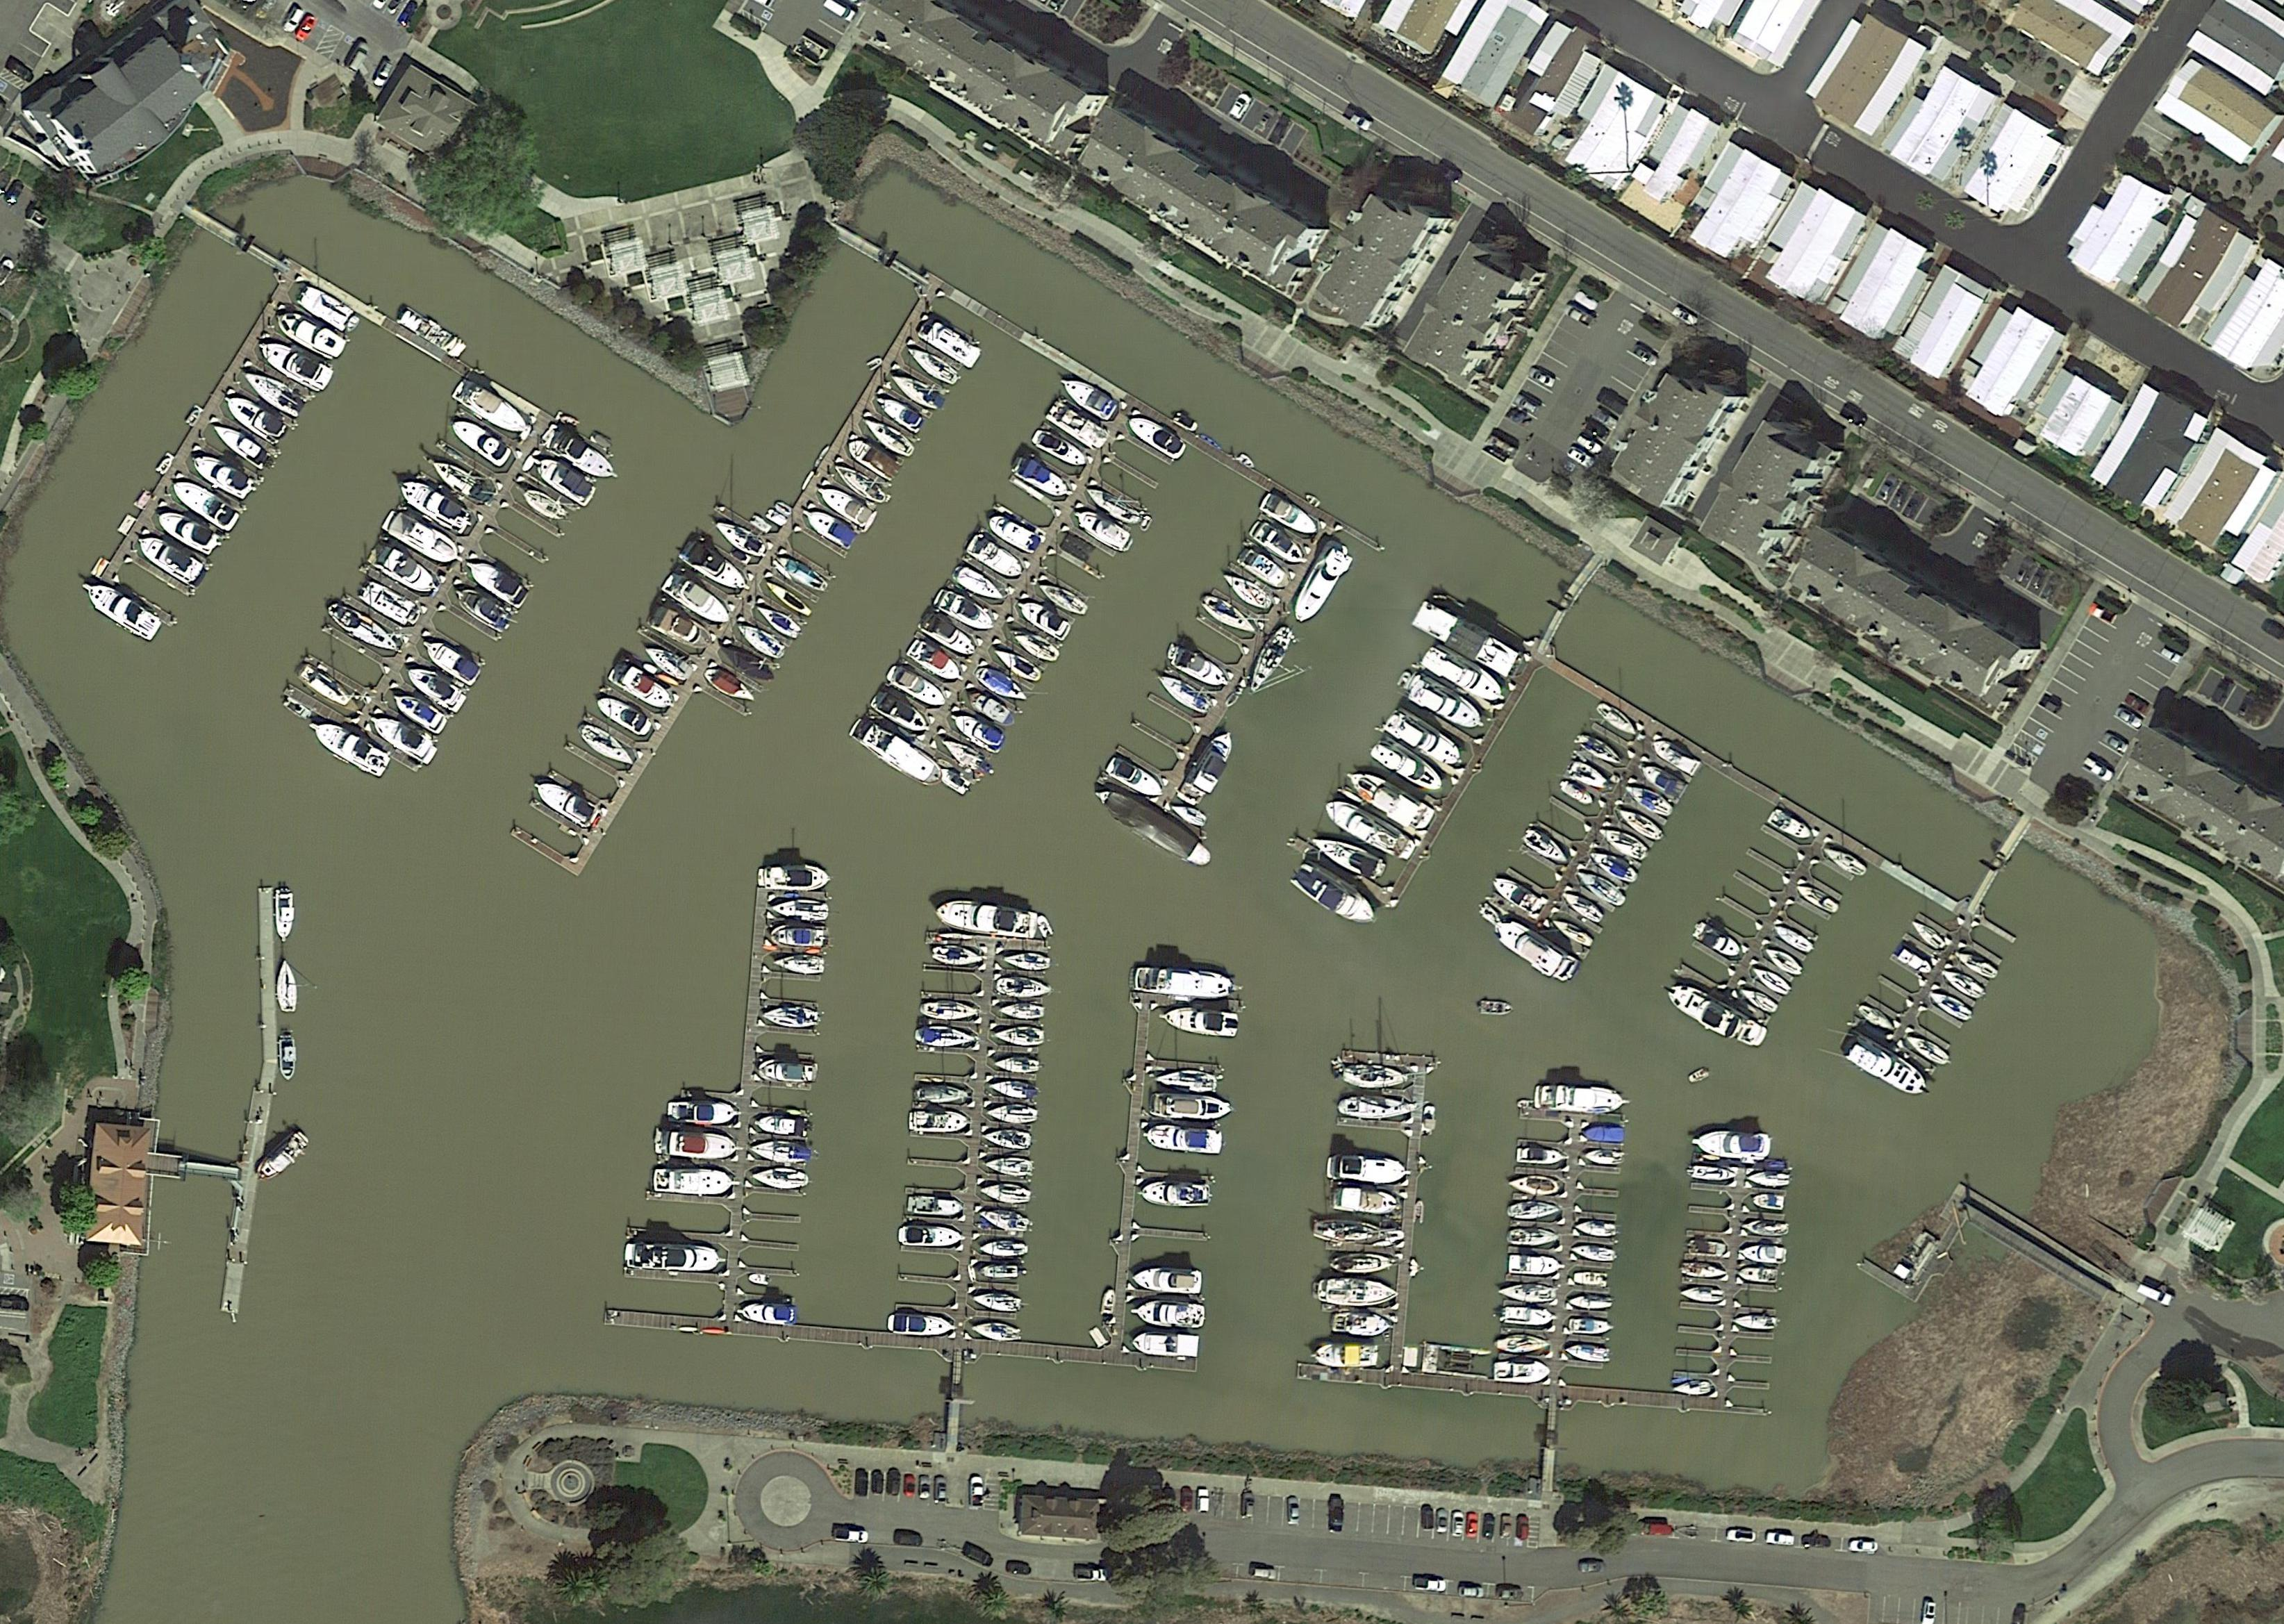harbor: (508, 501, 833, 921), (866, 374, 1188, 782), (283, 383, 606, 775), (1098, 490, 1367, 842), (98, 272, 362, 627), (627, 872, 829, 1323), (1288, 608, 1539, 910), (891, 930, 1052, 1343), (777, 288, 993, 573), (1488, 705, 1704, 961), (1109, 993, 1246, 1359), (1674, 801, 1866, 1030), (1309, 1049, 1439, 1369), (1495, 1107, 1625, 1383), (1671, 1153, 1789, 1399), (1848, 900, 2010, 1076), (221, 1060, 278, 1313), (258, 889, 279, 1063)
ship: (1089, 782, 1214, 872), (1411, 601, 1520, 680), (847, 712, 947, 794), (1288, 858, 1383, 937), (1841, 1030, 1936, 1107), (1321, 791, 1418, 866), (1342, 759, 1435, 837), (1486, 910, 1578, 988), (76, 573, 165, 645), (1420, 640, 1511, 710), (1288, 536, 1353, 629), (1660, 974, 1746, 1044), (1402, 670, 1488, 740), (306, 714, 392, 782), (1175, 722, 1242, 810), (379, 506, 466, 573), (1367, 731, 1446, 800), (541, 424, 624, 489), (1384, 707, 1467, 772), (450, 376, 532, 439), (933, 895, 1038, 944), (395, 473, 474, 538), (323, 599, 404, 661), (365, 538, 441, 603), (1309, 823, 1386, 886), (272, 304, 348, 367), (659, 568, 734, 631), (257, 336, 336, 395), (169, 473, 242, 534), (680, 538, 754, 599), (293, 661, 369, 721), (367, 708, 441, 768), (1242, 622, 1298, 698), (608, 657, 676, 719), (397, 304, 469, 362), (529, 773, 599, 831), (186, 448, 258, 504), (134, 529, 206, 585), (645, 601, 717, 657), (1128, 967, 1242, 1002), (239, 364, 309, 420), (220, 390, 288, 446), (355, 575, 423, 631), (427, 453, 494, 510), (884, 659, 950, 715), (446, 415, 515, 469), (915, 315, 984, 369), (532, 453, 597, 510), (933, 584, 998, 640), (155, 506, 223, 559), (624, 1239, 726, 1274), (251, 1127, 311, 1186), (575, 719, 638, 775), (965, 531, 1028, 587), (402, 661, 467, 715), (1008, 452, 1075, 504), (905, 636, 968, 691), (1056, 369, 1119, 424), (1196, 591, 1261, 643), (1123, 411, 1188, 464), (1168, 643, 1232, 696), (1258, 490, 1321, 543), (870, 687, 933, 740), (917, 610, 980, 663), (207, 420, 272, 471), (1070, 504, 1135, 555), (713, 638, 778, 689), (813, 478, 875, 531), (466, 557, 529, 608), (1153, 666, 1216, 717), (418, 636, 483, 685), (1316, 1272, 1399, 1311), (1488, 868, 1548, 921), (293, 279, 353, 332), (594, 691, 655, 742), (1247, 518, 1309, 569), (1102, 754, 1165, 803), (452, 582, 511, 633), (1235, 545, 1295, 596), (831, 459, 891, 510), (1082, 482, 1144, 531), (972, 661, 1033, 710), (798, 503, 859, 552), (701, 661, 761, 710), (843, 436, 903, 485), (1149, 1090, 1232, 1125), (654, 1127, 736, 1162), (1534, 1084, 1630, 1114), (1420, 1341, 1493, 1380), (712, 513, 770, 562), (950, 561, 1008, 610), (1031, 425, 1091, 473), (903, 341, 963, 388), (857, 415, 917, 462), (1312, 1216, 1397, 1250), (1016, 594, 1072, 643), (392, 689, 450, 736), (938, 733, 996, 780), (773, 550, 831, 598), (986, 510, 1044, 557), (887, 367, 945, 415), (1161, 1004, 1239, 1039), (1326, 1155, 1411, 1186), (1219, 568, 1276, 615), (947, 708, 1005, 754), (513, 482, 569, 527), (733, 617, 789, 663), (640, 640, 696, 685), (1690, 1127, 1771, 1158), (965, 685, 1017, 733), (1574, 865, 1629, 910), (1007, 622, 1063, 666), (654, 1167, 736, 1197), (1146, 1123, 1223, 1155), (1337, 1091, 1418, 1121), (1035, 578, 1091, 620), (871, 392, 928, 434), (1521, 826, 1574, 870), (1597, 821, 1650, 865), (1615, 801, 1667, 845), (752, 599, 805, 643), (763, 576, 815, 620), (1130, 1299, 1205, 1329), (1694, 919, 1745, 963), (991, 642, 1042, 685), (1140, 1178, 1211, 1209), (1650, 736, 1702, 779), (668, 1097, 741, 1127), (1131, 1329, 1200, 1360), (1130, 1265, 1202, 1295), (1926, 984, 1977, 1026), (1590, 845, 1641, 888), (1623, 779, 1674, 821), (1574, 729, 1625, 770), (1342, 1062, 1411, 1091), (885, 1311, 958, 1339), (1903, 1028, 1952, 1069), (1311, 1341, 1379, 1369), (1567, 756, 1615, 796), (1820, 842, 1869, 881), (1332, 1188, 1399, 1216), (1550, 912, 1595, 953), (1330, 1309, 1391, 1339), (1766, 807, 1813, 845), (1594, 701, 1641, 740), (757, 866, 831, 891), (1154, 1067, 1218, 1095), (755, 1056, 819, 1084), (1560, 888, 1606, 926), (1639, 761, 1685, 800), (1328, 1250, 1395, 1276), (898, 1223, 965, 1250), (1952, 946, 1999, 982), (748, 1137, 810, 1165), (1746, 961, 1792, 998), (1940, 963, 1985, 1000), (1493, 1330, 1551, 1359), (771, 923, 829, 951), (1760, 942, 1804, 979), (1854, 998, 1897, 1035), (1794, 881, 1839, 916), (1493, 1359, 1553, 1385), (1738, 981, 1780, 1018), (1906, 916, 1950, 951), (1771, 921, 1815, 956), (1165, 796, 1209, 831), (738, 1299, 796, 1325), (1495, 1280, 1557, 1304), (908, 1111, 970, 1135), (914, 1025, 975, 1049), (919, 998, 979, 1023), (1507, 1223, 1562, 1250), (907, 1195, 965, 1220), (1897, 944, 1936, 981), (771, 896, 829, 921), (1557, 775, 1597, 810), (1509, 1255, 1565, 1280), (764, 1004, 820, 1028), (996, 975, 1052, 1000), (750, 1165, 806, 1190), (1506, 1199, 1558, 1223), (773, 951, 826, 975), (272, 888, 295, 944), (931, 944, 982, 968), (980, 1181, 1031, 1206), (754, 1114, 808, 1137), (276, 960, 299, 1014), (1504, 1306, 1557, 1329), (1516, 1146, 1569, 1169), (977, 1209, 1030, 1232), (993, 1025, 1045, 1048), (914, 1084, 970, 1106), (989, 1077, 1040, 1100), (987, 1102, 1038, 1125), (935, 766, 973, 796), (1511, 1174, 1560, 1197), (1003, 949, 1051, 972), (972, 1292, 1023, 1313), (276, 1032, 297, 1083), (1564, 1343, 1613, 1364), (972, 1322, 1021, 1343), (1738, 1243, 1787, 1264), (984, 1128, 1033, 1149), (1680, 1260, 1725, 1281), (994, 1053, 1040, 1074), (1567, 1316, 1616, 1336), (1569, 1243, 1618, 1262), (1739, 1218, 1789, 1237), (980, 1239, 1030, 1258), (984, 1156, 1033, 1176), (279, 692, 313, 721), (1745, 1169, 1789, 1190), (1736, 1264, 1780, 1285), (1681, 1285, 1725, 1306), (1567, 1294, 1615, 1313), (1690, 1164, 1736, 1183), (1732, 1313, 1778, 1332), (1000, 1002, 1045, 1021), (1583, 1146, 1623, 1167), (1579, 1125, 1623, 1144), (1574, 1220, 1616, 1239), (1752, 1190, 1785, 1213), (1688, 1239, 1727, 1258), (1673, 1378, 1711, 1397), (1172, 408, 1200, 434), (1572, 1269, 1609, 1288), (1478, 998, 1514, 1018), (980, 1264, 1019, 1280), (153, 453, 177, 478), (1687, 1065, 1711, 1088), (747, 513, 773, 534), (1098, 1288, 1117, 1316), (116, 513, 139, 536), (1421, 1104, 1437, 1135), (132, 489, 155, 510), (90, 555, 111, 578), (764, 508, 789, 527), (1235, 450, 1256, 471), (343, 313, 362, 336), (183, 408, 202, 427), (1138, 513, 1156, 533), (1413, 1199, 1425, 1225), (1304, 492, 1321, 510), (1397, 670, 1413, 689), (748, 1272, 771, 1285)
